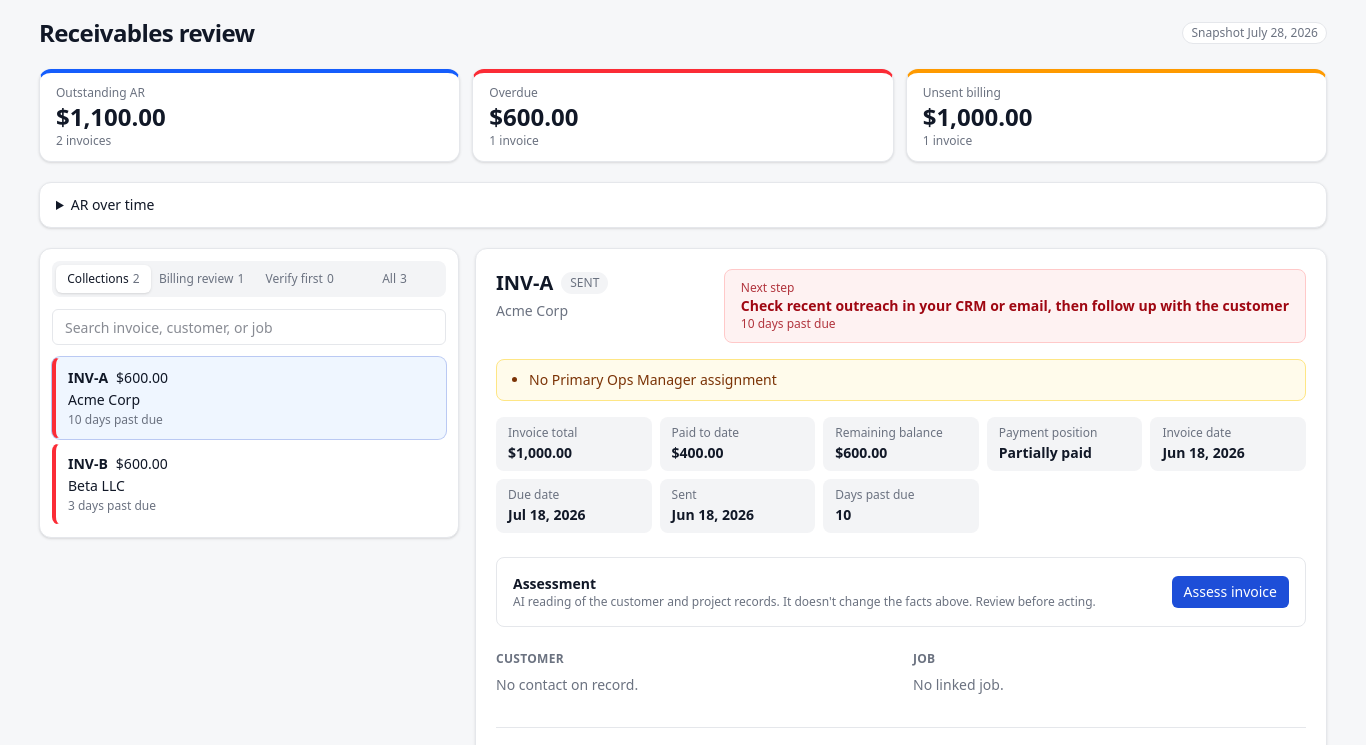
Test: an assessment that finishes after switching invoices is not shown on the new one
Click the button "Assess invoice".
click(1230, 592)  # box x1=1172 y1=576 x2=1289 y2=608
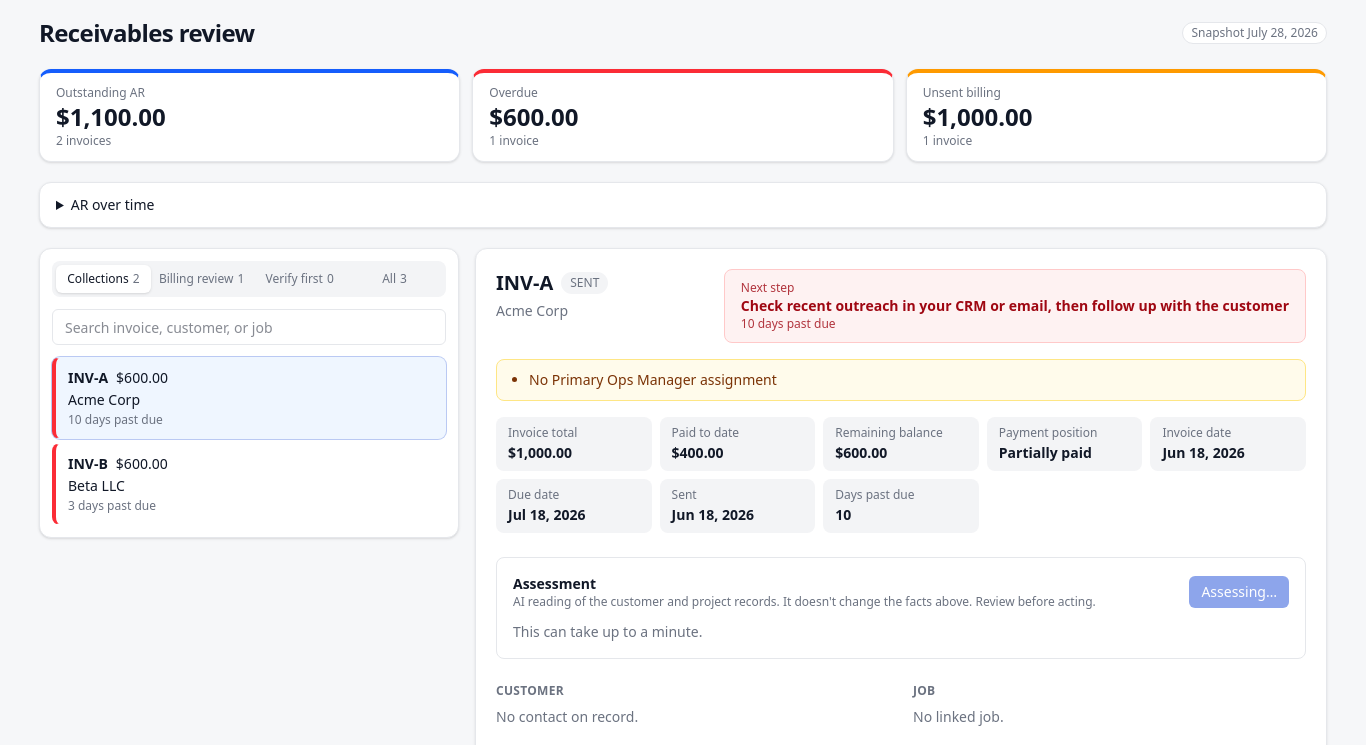
Click the button "INV-B $600.00 Beta LLC 3 days past due".
click(88, 464)  # box x1=52 y1=443 x2=446 y2=525
(page scrolled)
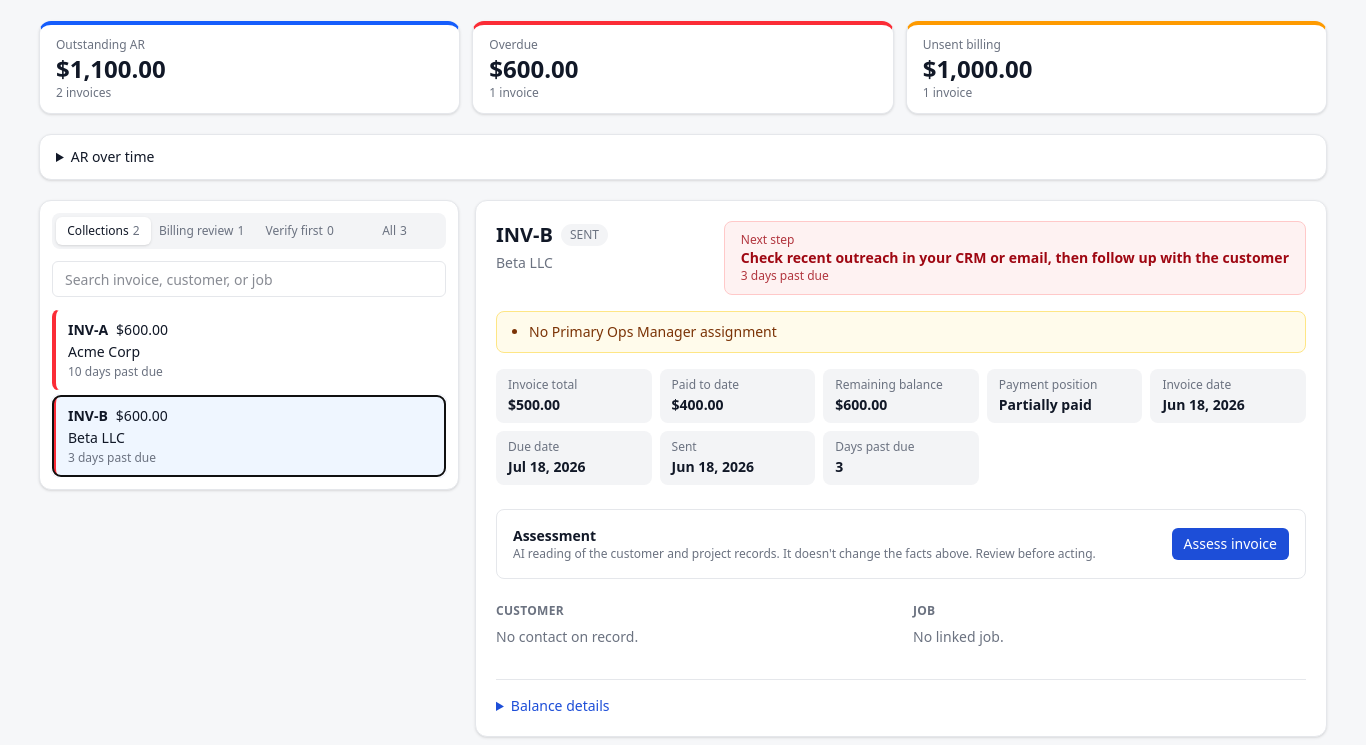
Now the element named "Invoice INV-B" is shown, box x1=475 y1=200 x2=1327 y2=737
